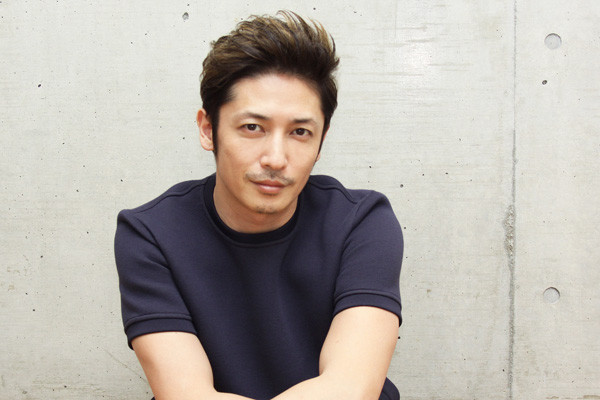man: (196, 12, 335, 215)
